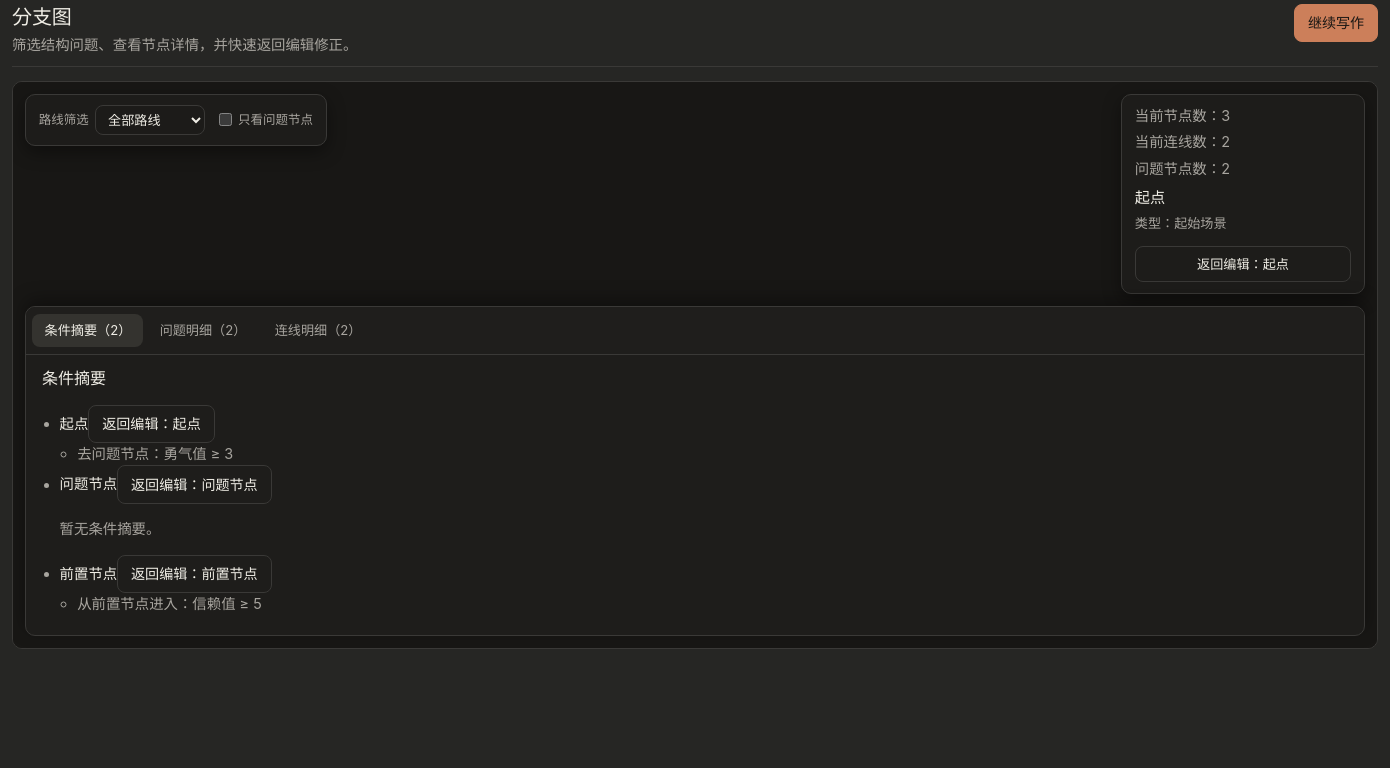
Test: GraphPage › 切换到只看问题节点后只显示问题节点子图
Click the checkbox labelled "只看问题节点": [225, 120] box [219,113,232,126]
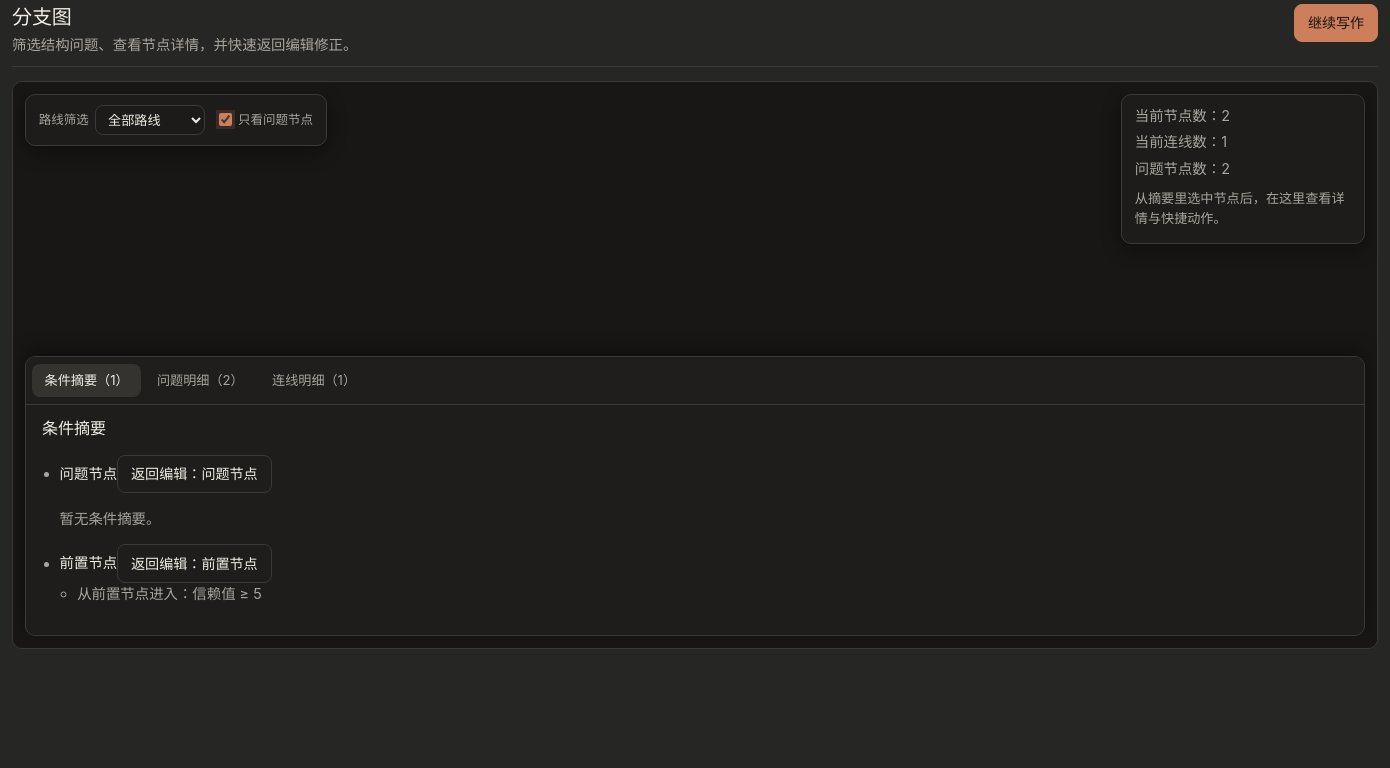
Expected: the text "问题节点" is shown, [60,465,117,482]
Now the heading "起点" is gone
Now the list item "去问题节点：勇气值 ≥ 3" is gone
